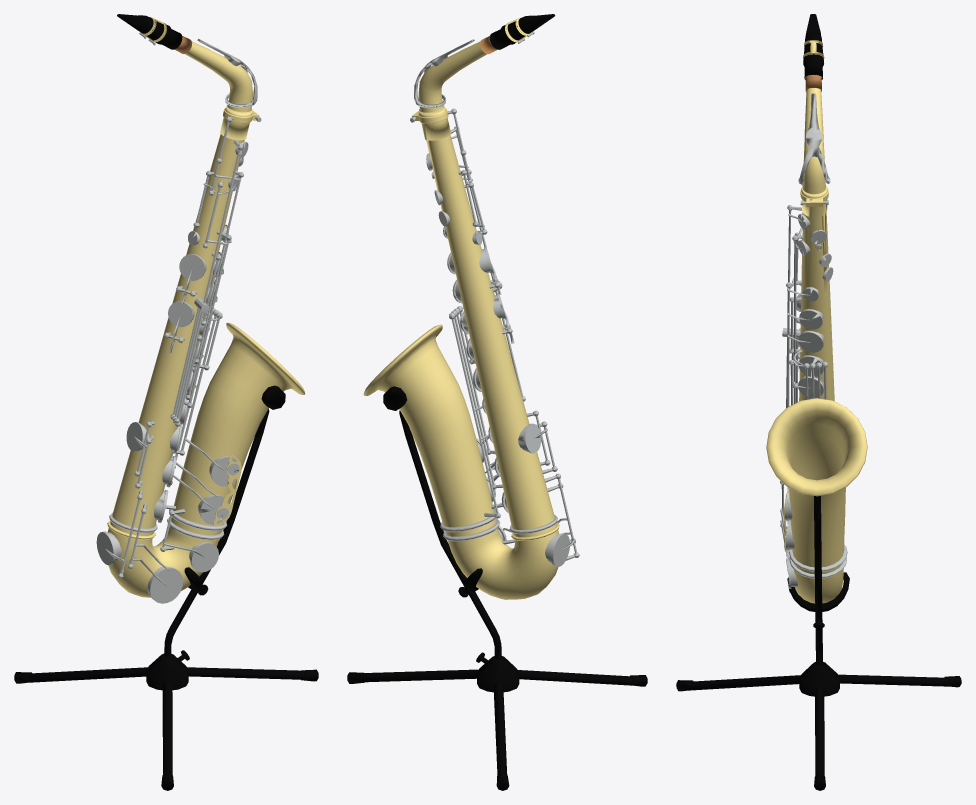
File: saxophone.glb
The picture shows the model from 3 angles, left to right: view 1: azimuth 30°, elevation 25°; view 2: azimuth 150°, elevation 25°; view 3: azimuth 270°, elevation 25°; orthographic projection. The views are drawn at different scales.
Parts seen in each view (by area): view 1: sax; view 2: sax; view 3: sax.
Boxes of the visible parts, x1,y1,x2,y2 form: sax: (14,14,318,790); sax: (347,14,647,790); sax: (676,14,961,790).
Size of the model in its own units: 1.38 by 4.1 by 1.54.
Materials: 1 (1 with a texture image).
